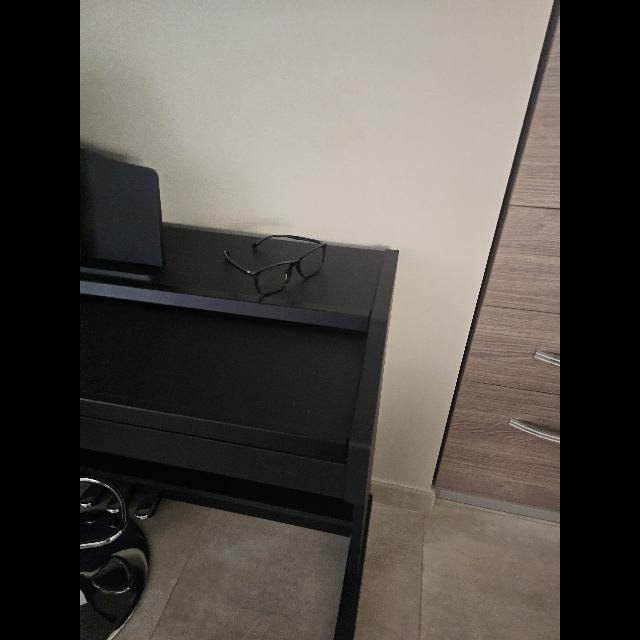glasses: (224, 234, 326, 296)
